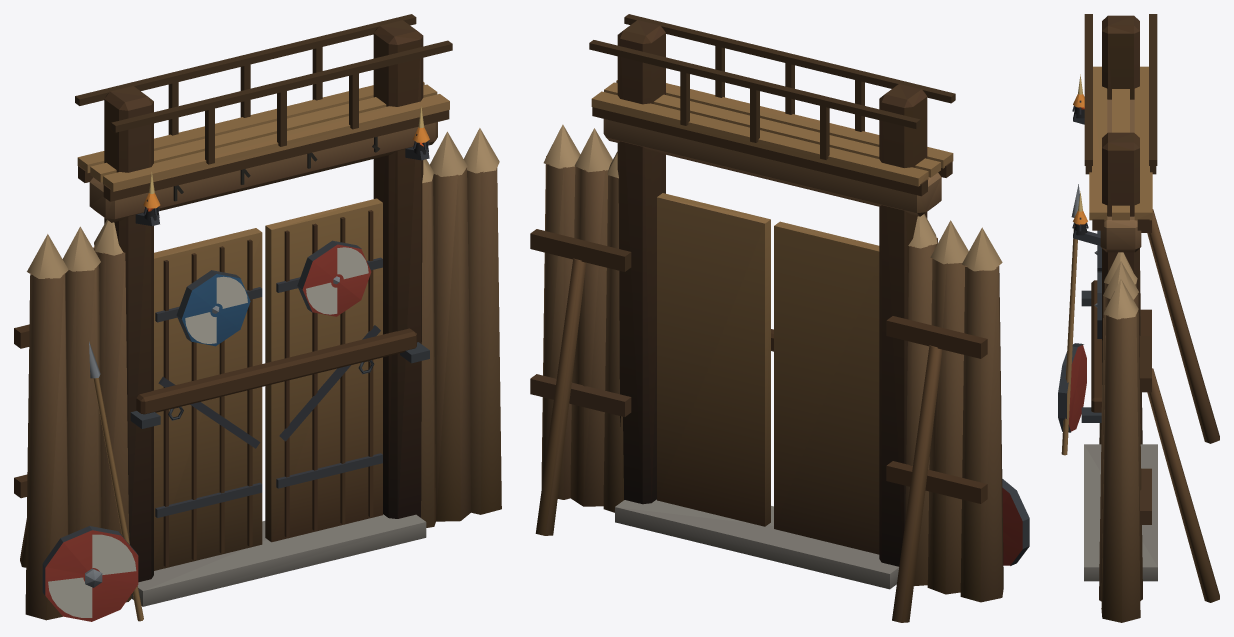
File: palisade-gate.glb
3 views of the same model, side by side, from view 1: azimuth 30°, elevation 25°; view 2: azimuth 150°, elevation 25°; view 3: azimuth 270°, elevation 25° (orthographic). The views are drawn at different scales.
Visible parts, largest first — view 1: palisade_gate; view 2: palisade_gate; view 3: palisade_gate.
Boxes of the visible parts, x1=… form: palisade_gate: x1=14, y1=14, x2=501, y2=621; palisade_gate: x1=530, y1=14, x2=1029, y2=622; palisade_gate: x1=1058, y1=14, x2=1219, y2=622.
Bounding box in the file's own units: 4.13 × 4.1 × 1.36.
